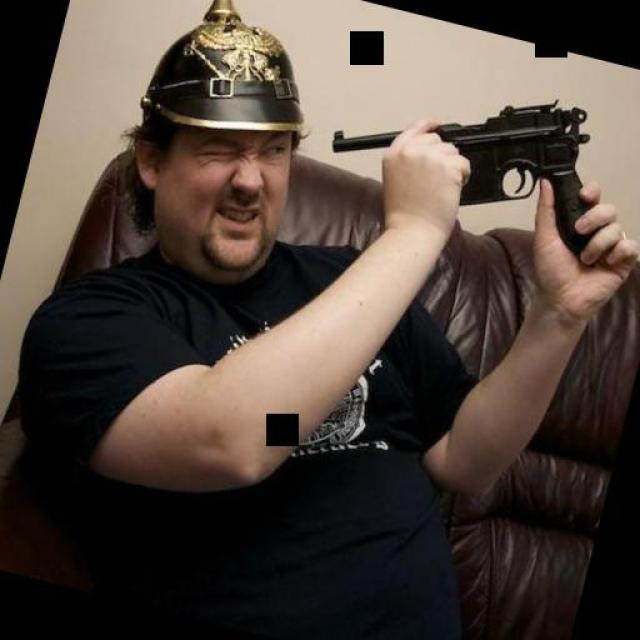gun: (317, 48, 624, 258)
